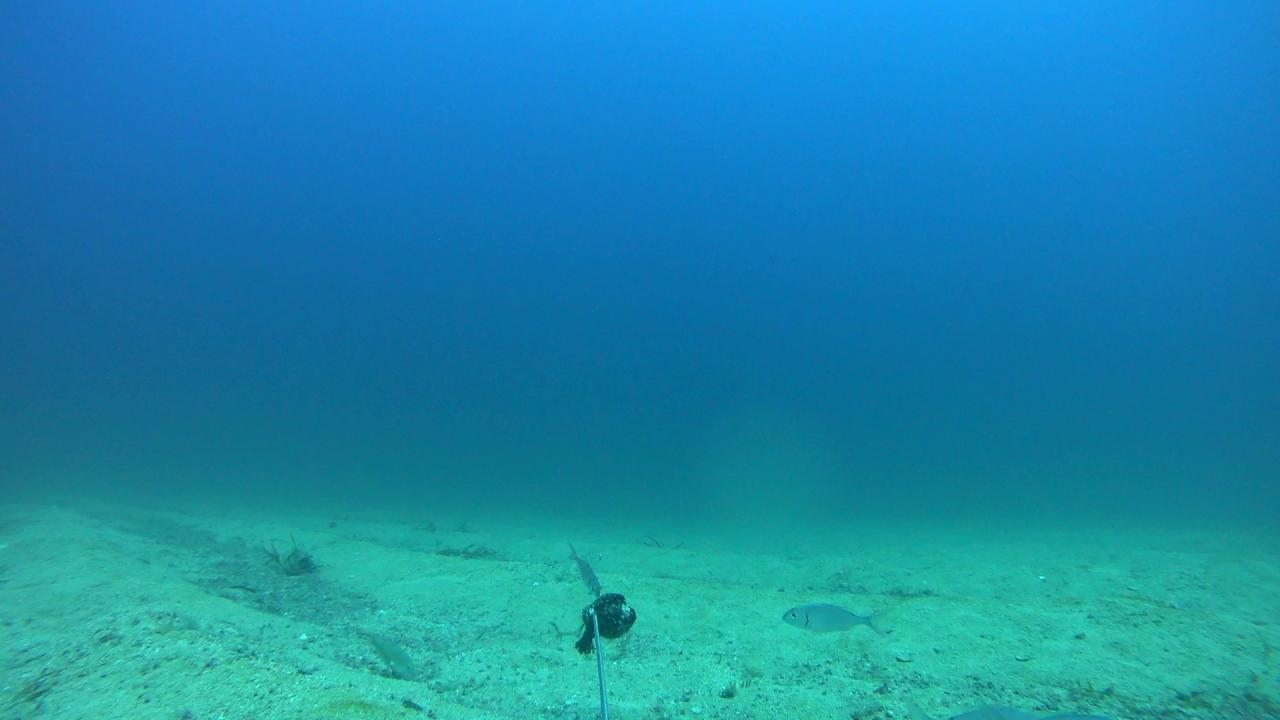pagellus: (782, 604, 888, 635), (565, 541, 601, 595)
